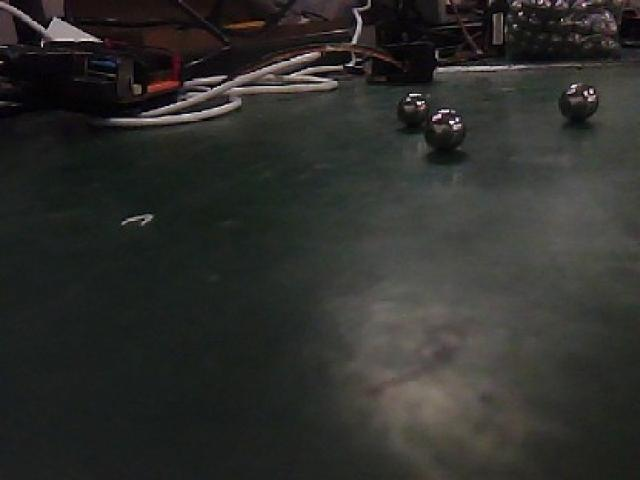steel-ball: (409, 93, 465, 156), (546, 71, 596, 140), (378, 72, 429, 131)
